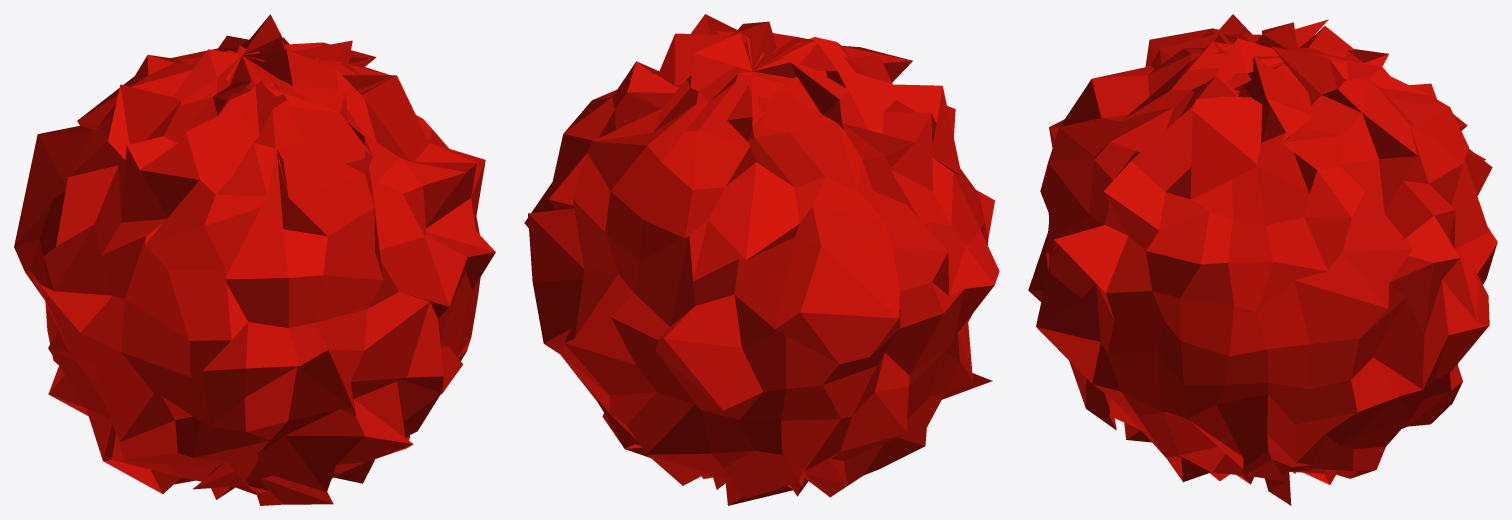
File: kula.fbx
3 views of the same model, side by side, from view 1: azimuth 30°, elevation 25°; view 2: azimuth 150°, elevation 25°; view 3: azimuth 270°, elevation 25° (orthographic).
Visible parts, largest first — view 1: Sphere; view 2: Sphere; view 3: Sphere.
Part boxes in pixels (box(x1,y1,x2,y2)): Sphere: box(14, 14, 495, 505); Sphere: box(524, 14, 999, 505); Sphere: box(1028, 14, 1497, 505).
Size of the model in its own units: 209 by 227 by 212.
